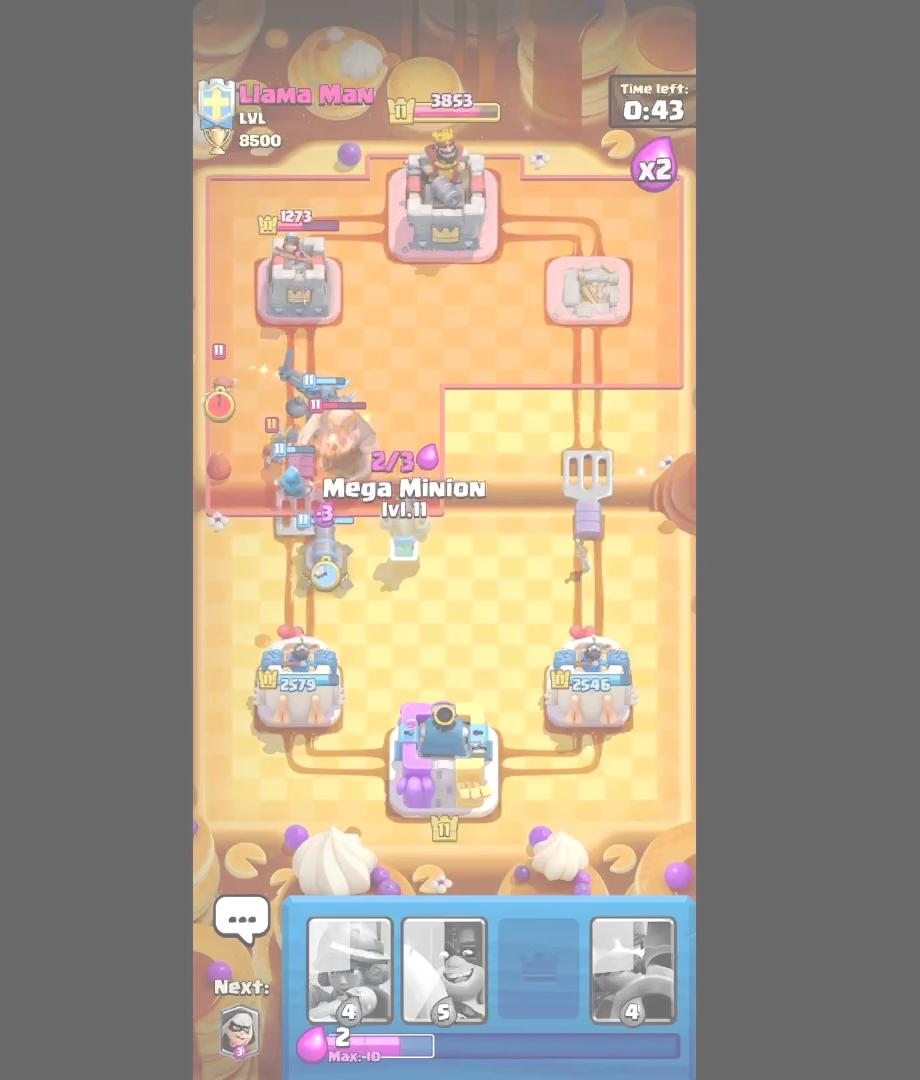Bomber: (207, 338, 237, 423)
Giant: (308, 394, 379, 492)
Valkyrie: (257, 413, 298, 477)
